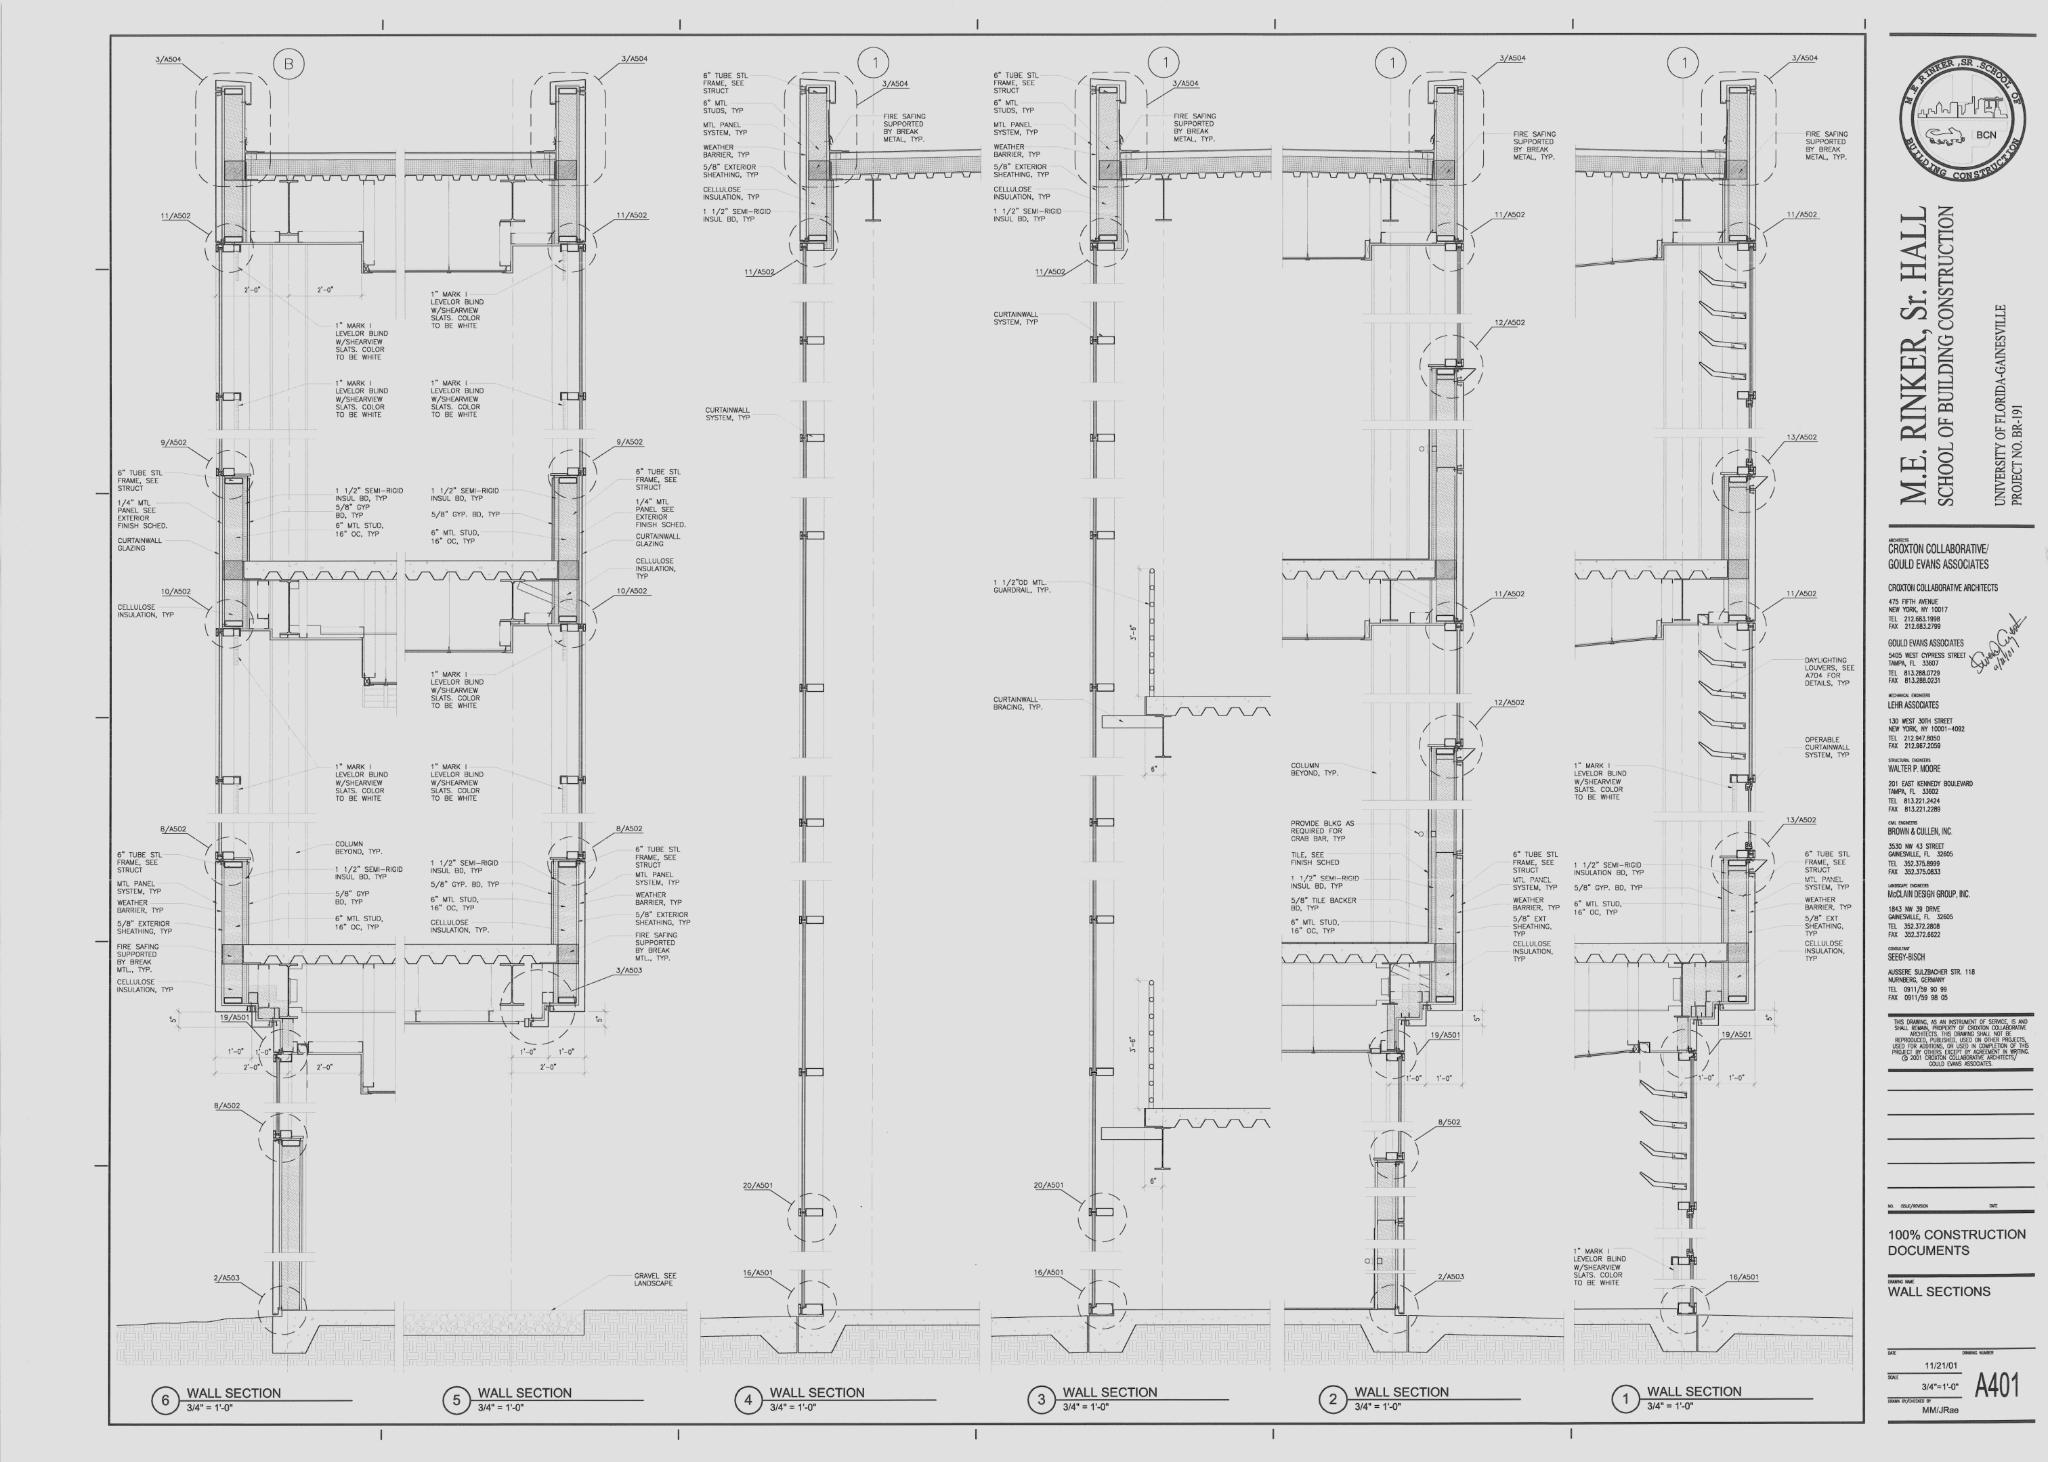detail: (571, 965, 644, 993), (741, 1178, 794, 1211), (1474, 696, 1526, 728), (159, 435, 209, 467), (1766, 431, 1820, 460), (1768, 52, 1820, 81), (1764, 208, 1822, 234), (1149, 77, 1201, 106), (1477, 318, 1527, 348), (1763, 587, 1818, 614), (153, 54, 204, 83), (159, 208, 208, 238), (1707, 1271, 1761, 1298), (598, 52, 650, 80), (159, 584, 211, 612), (157, 823, 209, 851), (219, 1010, 263, 1043), (743, 1267, 793, 1296), (1470, 589, 1525, 615), (1415, 1271, 1466, 1299), (1415, 1117, 1464, 1146), (211, 1272, 263, 1299), (860, 79, 912, 106), (593, 586, 654, 609), (1032, 1180, 1082, 1208), (593, 210, 651, 234), (211, 1099, 262, 1126), (1767, 815, 1818, 842), (1470, 210, 1527, 234), (591, 822, 645, 847), (1478, 52, 1527, 79), (1033, 1267, 1083, 1293), (592, 437, 645, 460), (1418, 1030, 1462, 1056), (743, 259, 799, 279), (1710, 1030, 1754, 1055), (1035, 259, 1088, 279)
title: (148, 1384, 356, 1419), (733, 1383, 939, 1418), (1317, 1383, 1524, 1417), (1609, 1383, 1815, 1417), (441, 1384, 646, 1418), (1025, 1384, 1231, 1417)
